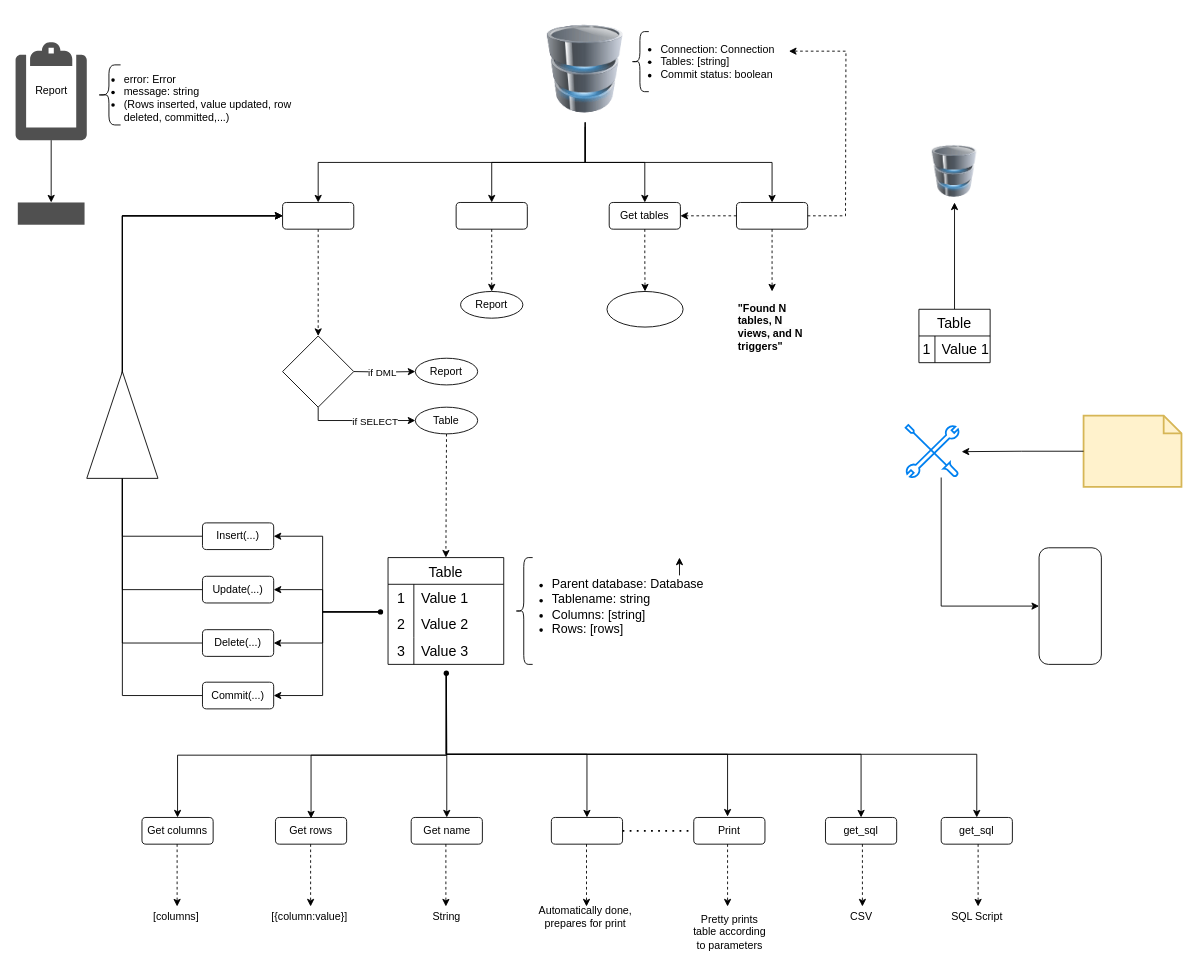
Image size: 1197x974. Some labels were removed from this diagram. Here are the shapes that lost their labels. From the top down, the centre of each, then its label:
(50,213): Has error
(318,215): Execute
(491,215): Commit
(772,215): Connect
(644,309): [tablenames]
(122,424): SQLBuilder()
(1132,450): USE BY BOTH DB AND TABLE, AND BY ITSELF
(1069,605): Query() from into select insert update delete
(586,830): Tabulate
